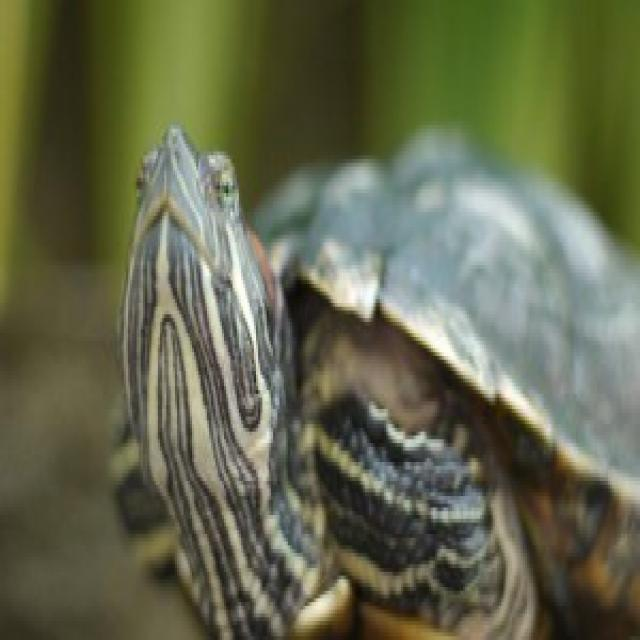Sea turtle: (102, 103, 640, 640)
